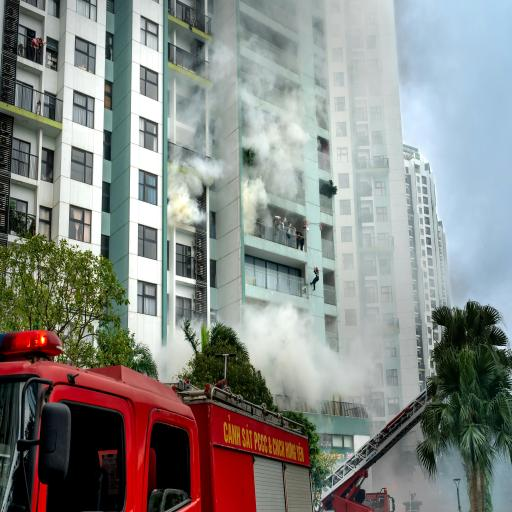smoke: (11, 0, 382, 401), (356, 66, 413, 327)
